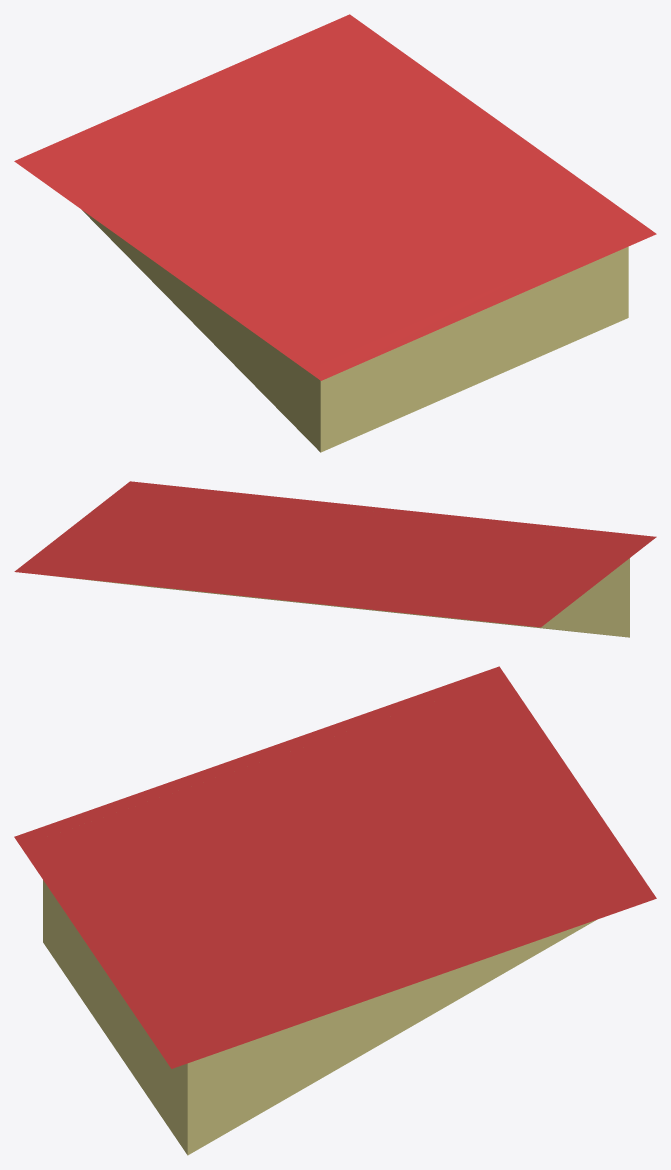
The picture shows the model from 3 angles, top to bottom: view 1: azimuth 30°, elevation 25°; view 2: azimuth 150°, elevation 25°; view 3: azimuth 270°, elevation 25°; orthographic projection. The views are drawn at different scales.
Bounding box in the file's own units: 7.29 × 6.81 × 2.46.
